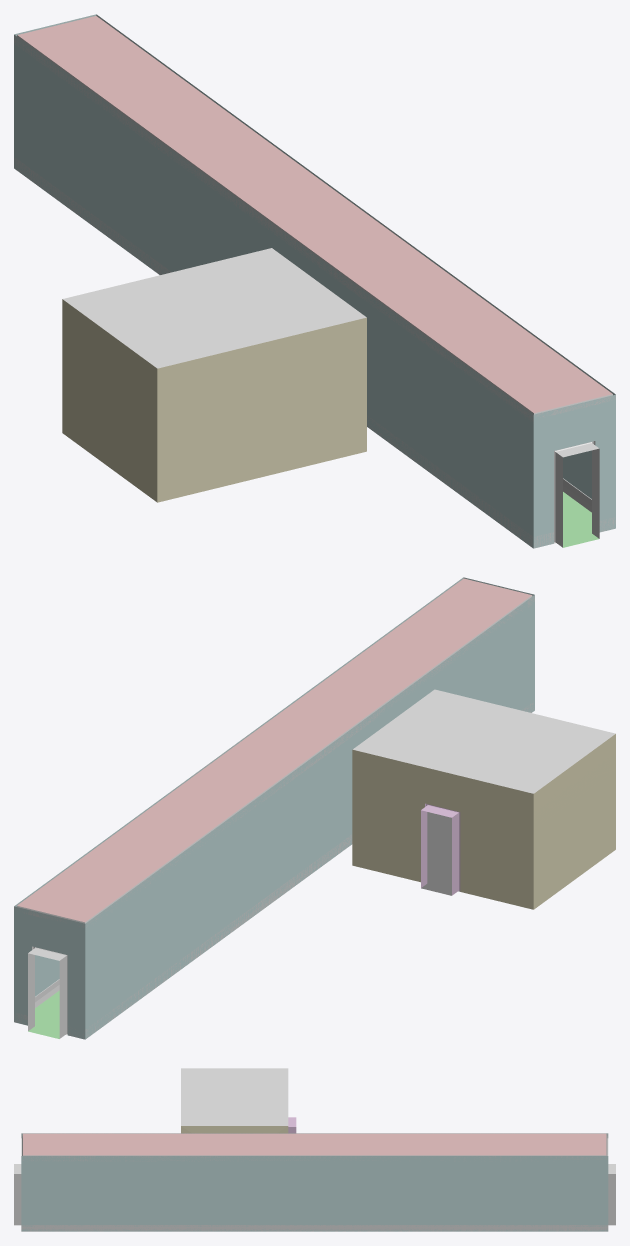
The model's file is Hall_Long_Outdated.fbx.
3 renders of one model, top to bottom at view 1: azimuth 30°, elevation 25°; view 2: azimuth 150°, elevation 25°; view 3: azimuth 270°, elevation 25°, orthographic. The views are drawn at different scales.
Visible parts, largest first — view 1: Hall_Long; view 2: Hall_Long; view 3: Hall_Long.
Part boxes in pixels (x1=…): Hall_Long: x1=14, y1=14, x2=615, y2=548; Hall_Long: x1=14, y1=577, x2=615, y2=1039; Hall_Long: x1=14, y1=1068, x2=615, y2=1231.
Size of the model in its own units: 754 by 304 by 2193.
